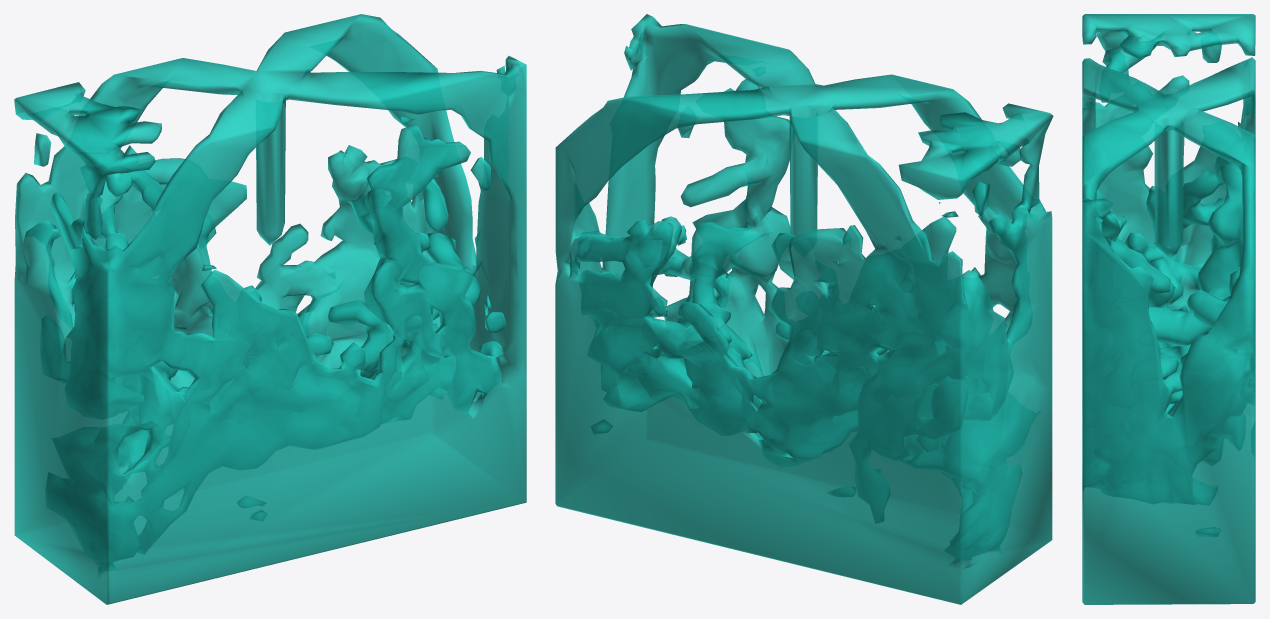
3 views of the same model, side by side, from view 1: azimuth 30°, elevation 25°; view 2: azimuth 150°, elevation 25°; view 3: azimuth 270°, elevation 25° (orthographic). The views are drawn at different scales.
Parts seen in each view (by area): view 1: Liquid_Domain; view 2: Liquid_Domain; view 3: Liquid_Domain.
Boxes of the visible parts, bbox=[...] form: Liquid_Domain: bbox=[14, 14, 526, 604]; Liquid_Domain: bbox=[555, 14, 1053, 604]; Liquid_Domain: bbox=[1082, 14, 1255, 604].
Size of the model in its own units: 885 by 884 by 344.
